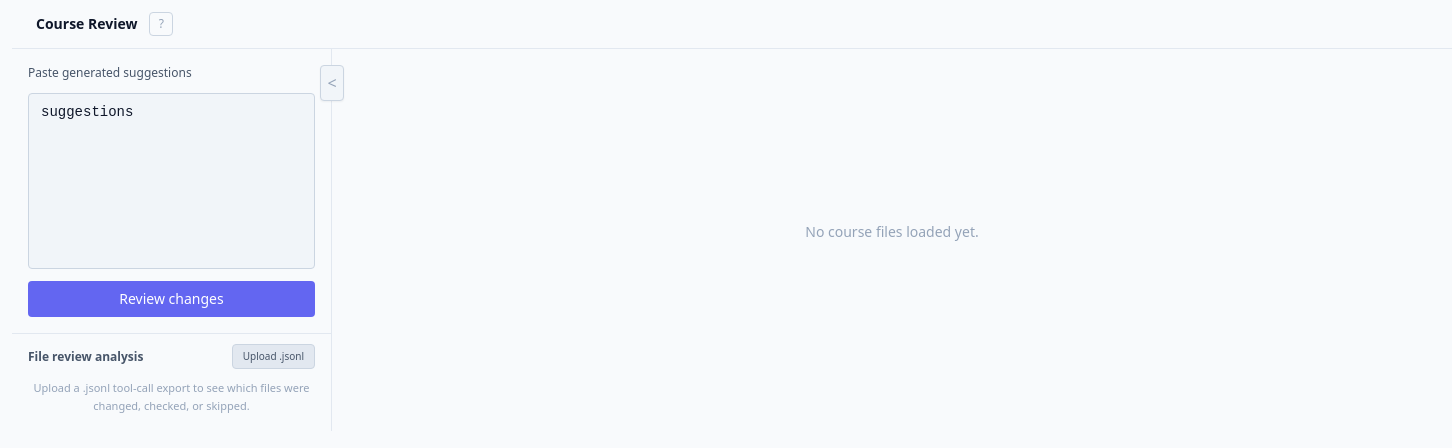
Course Review tutorial › can collapse and restore the generated suggestions and file review analysis panel without a header show/hide button
Click the button named "collapse review input panel": (332, 83) [320,65,344,101]
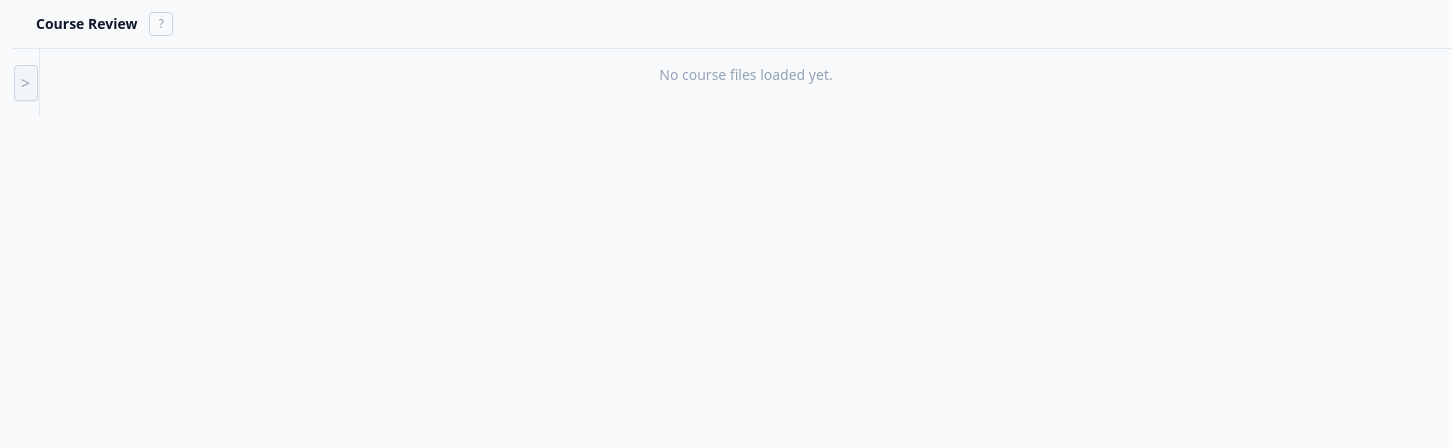
Now the text "Paste generated suggestions" is gone
Now the text "File review analysis" is gone
Click the button named "expand review input panel": (26, 83) [14,65,38,101]
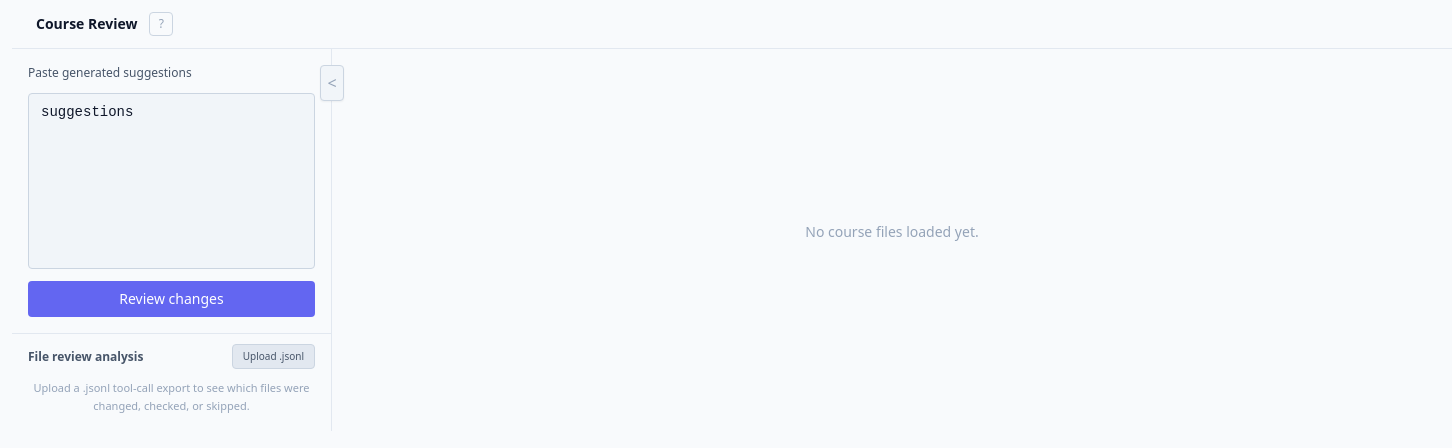
Now the text "Paste generated suggestions" is shown, box [28,64,192,81]
Now the text "File review analysis" is shown, box [28,348,143,364]
